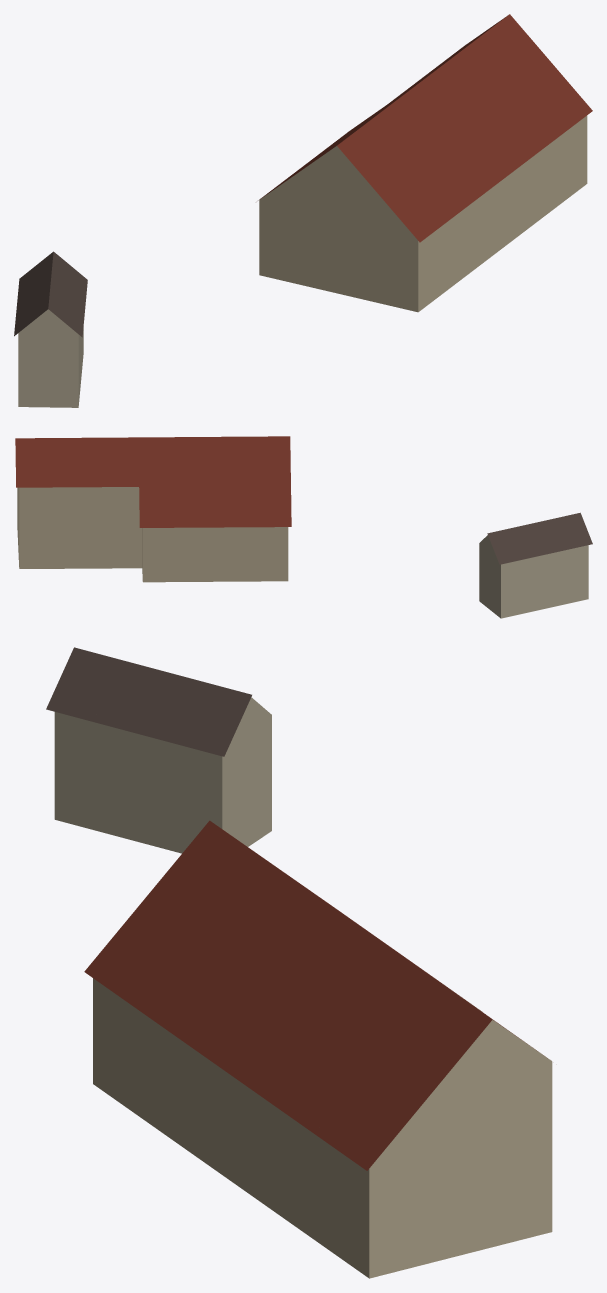
3 views of the same model, one above another, from view 1: azimuth 30°, elevation 25°; view 2: azimuth 150°, elevation 25°; view 3: azimuth 270°, elevation 25° (orthographic). The views are drawn at different scales.
Parts seen in each view (by area): view 1: buildings; view 2: buildings; view 3: buildings.
Boxes of the visible parts, bbox=[...] form: buildings: bbox=[14, 14, 592, 407]; buildings: bbox=[15, 436, 592, 618]; buildings: bbox=[46, 647, 552, 1278].
Size of the model in its own units: 56.3 by 12.14 by 24.49.
